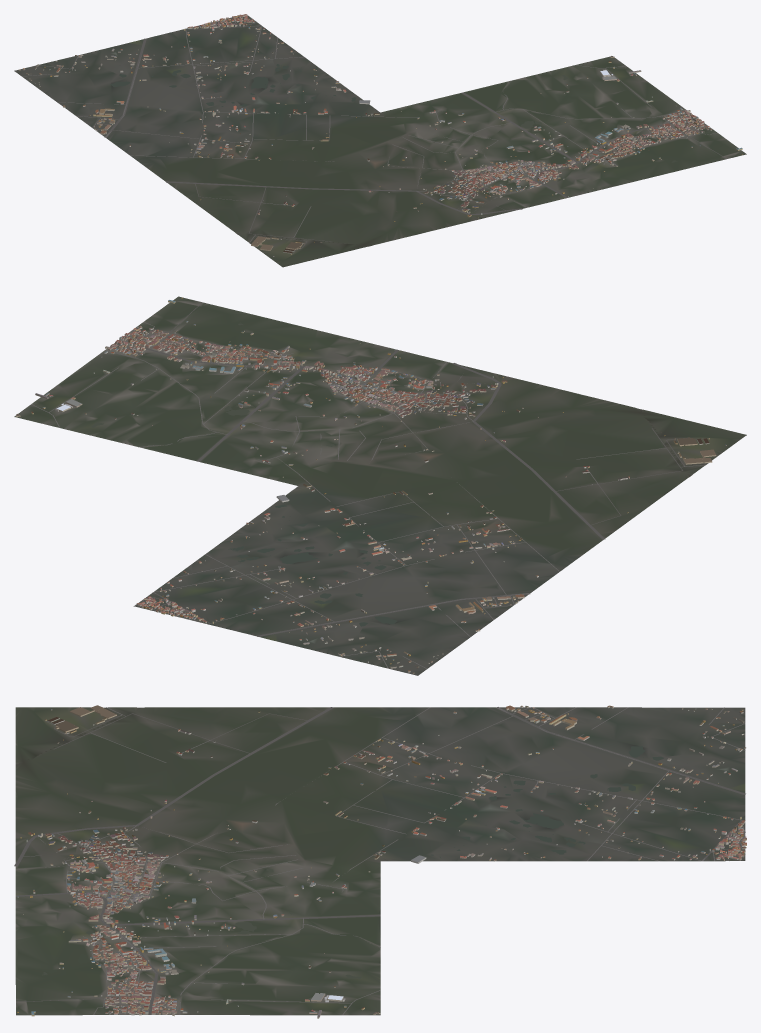
3 views of the same model, one above another, from view 1: azimuth 30°, elevation 25°; view 2: azimuth 150°, elevation 25°; view 3: azimuth 270°, elevation 25° (orthographic). The views are drawn at different scales.
Parts seen in each view (by area): view 1: ground, buildings, roads, water; view 2: ground, buildings, roads, water; view 3: ground, buildings, roads, water.
Boxes of the visible parts, x1=… form: ground: x1=14, y1=14, x2=746, y2=267; buildings: x1=19, y1=14, x2=742, y2=256; roads: x1=23, y1=17, x2=726, y2=254; water: x1=110, y1=64, x2=677, y2=245; ground: x1=14, y1=296, x2=746, y2=675; buildings: x1=16, y1=297, x2=726, y2=673; roads: x1=31, y1=302, x2=708, y2=668; water: x1=74, y1=322, x2=684, y2=641; ground: x1=15, y1=707, x2=745, y2=1015; buildings: x1=17, y1=705, x2=746, y2=1018; roads: x1=14, y1=707, x2=745, y2=1014; water: x1=19, y1=715, x2=670, y2=993.
Size of the model in its own units: 2839 by 18.89 by 2817.
